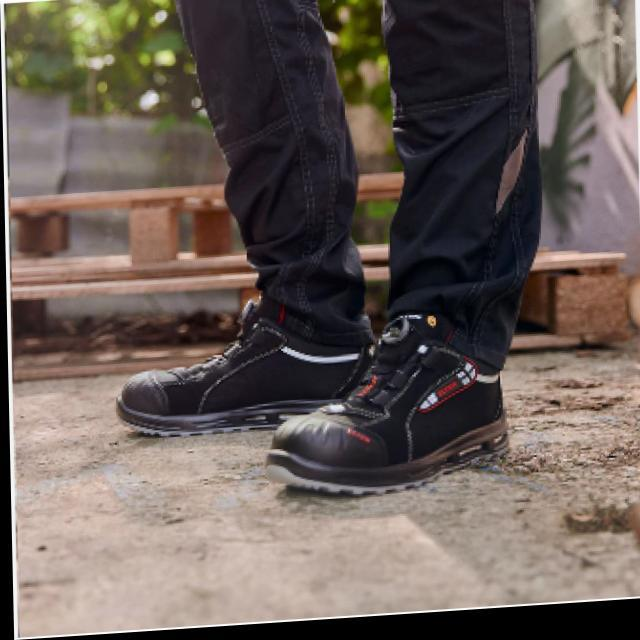shoes: (106, 279, 521, 519)
